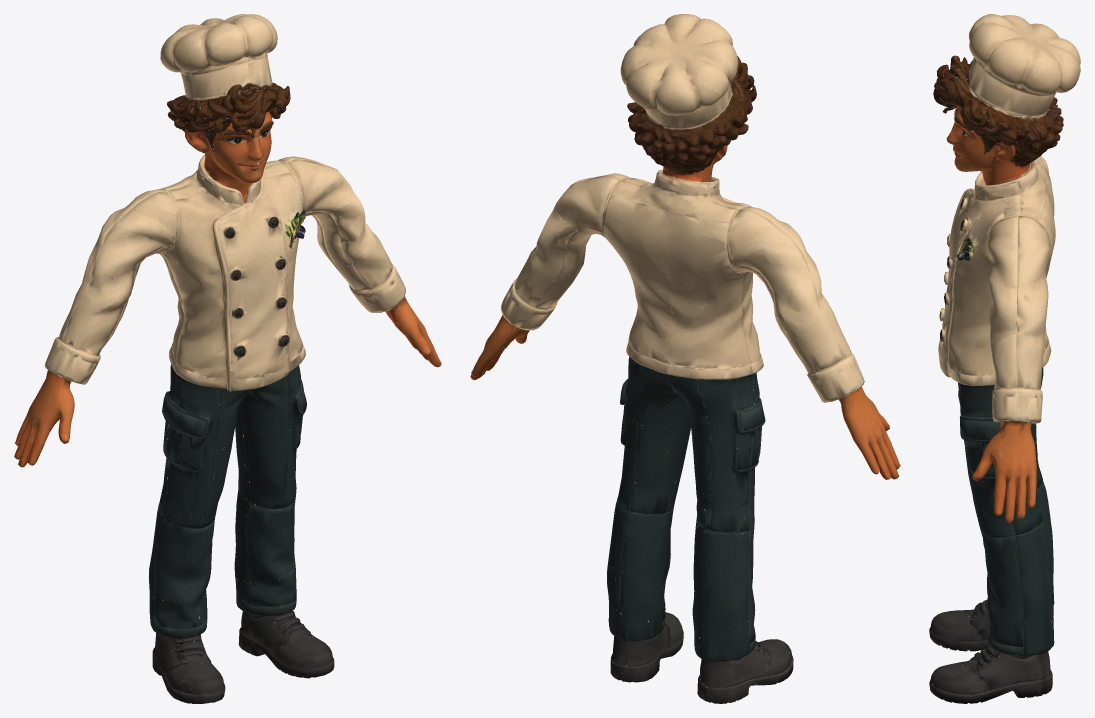
Rendered from juniper-chef.glb.
The picture shows the model from 3 angles, left to right: view 1: azimuth 30°, elevation 25°; view 2: azimuth 150°, elevation 25°; view 3: azimuth 270°, elevation 25°; orthographic projection.
Parts seen in each view (by area): view 1: tripo_node_9e4c066a-2f6b-4fd5-b77b-55860daef20d; view 2: tripo_node_9e4c066a-2f6b-4fd5-b77b-55860daef20d; view 3: tripo_node_9e4c066a-2f6b-4fd5-b77b-55860daef20d.
Boxes of the visible parts, x1,y1,x2,y2 form: tripo_node_9e4c066a-2f6b-4fd5-b77b-55860daef20d: (14, 14, 441, 703); tripo_node_9e4c066a-2f6b-4fd5-b77b-55860daef20d: (470, 14, 900, 703); tripo_node_9e4c066a-2f6b-4fd5-b77b-55860daef20d: (929, 14, 1080, 703).
Size of the model in its own units: 0.6656 by 0.9794 by 0.208.
Materials: 1 (1 with a texture image).
